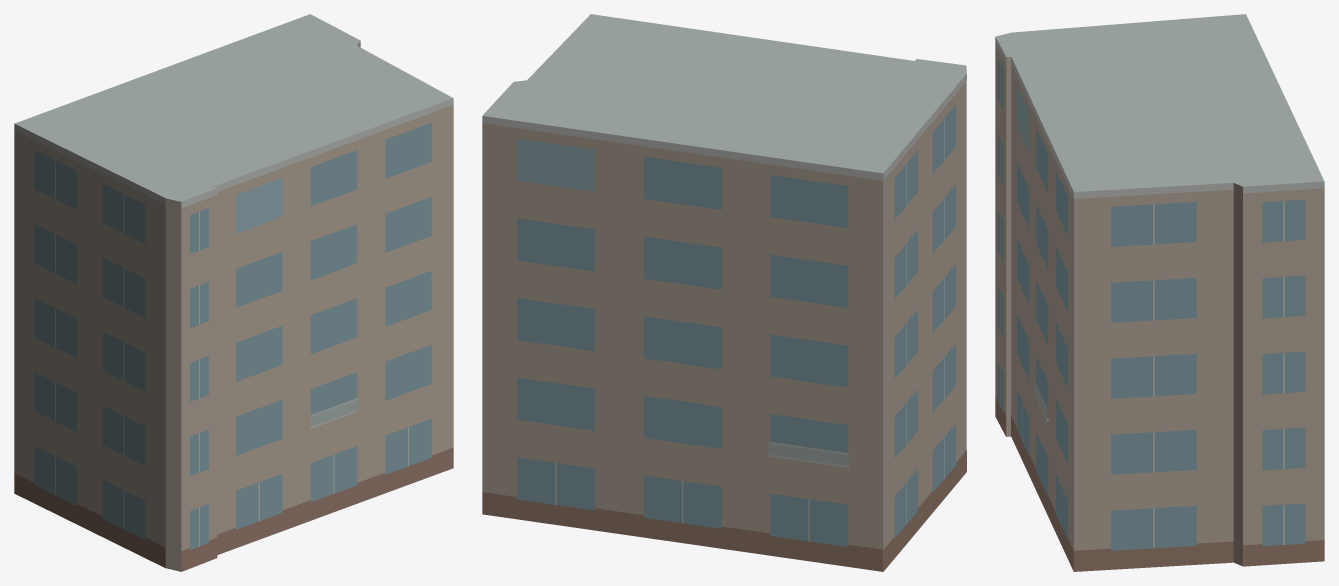
File: survey-upis-32821010.glb
3 views of the same model, side by side, from view 1: azimuth 30°, elevation 25°; view 2: azimuth 150°, elevation 25°; view 3: azimuth 270°, elevation 25° (orthographic). The views are drawn at different scales.
Visible parts, largest first — view 1: survey-upis-32821010.tmp; view 2: survey-upis-32821010.tmp; view 3: survey-upis-32821010.tmp.
Part boxes in pixels (x1,y1,x2,y2): survey-upis-32821010.tmp: (14,14,453,571); survey-upis-32821010.tmp: (482,14,966,571); survey-upis-32821010.tmp: (995,14,1324,571).
Size of the model in its own units: 13.58 by 13.5 by 10.62.
